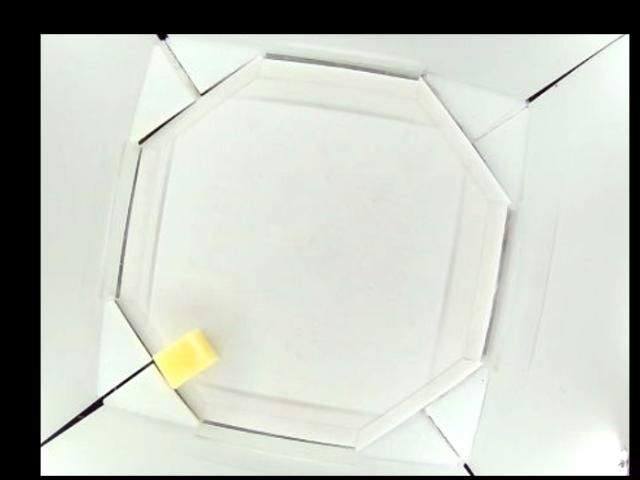Potato: (154, 328, 215, 384)
